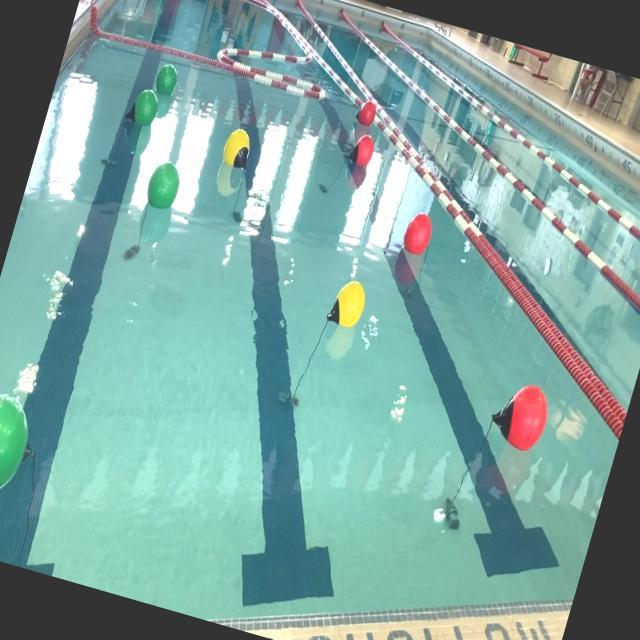buoy: (481, 374, 557, 456), (0, 384, 39, 506), (322, 274, 372, 335), (140, 156, 186, 214), (397, 206, 439, 262), (216, 123, 258, 175), (120, 84, 162, 130), (150, 56, 184, 102), (344, 128, 379, 170), (349, 92, 381, 132)
